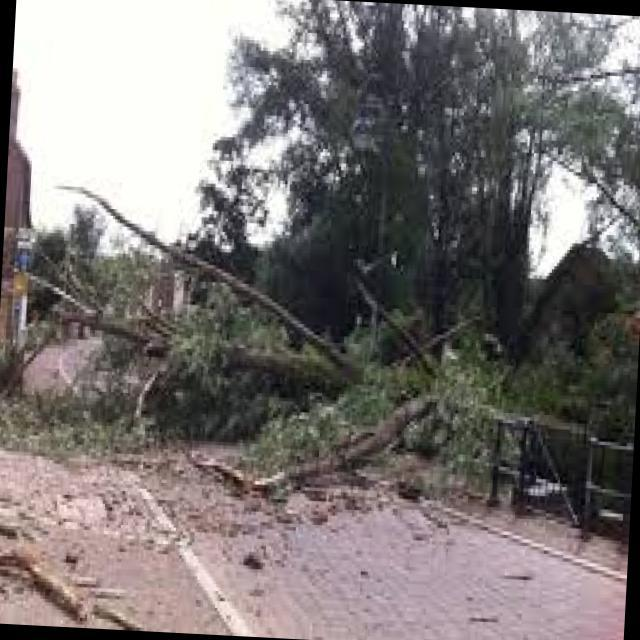fallen_object: (0, 207, 484, 504)
